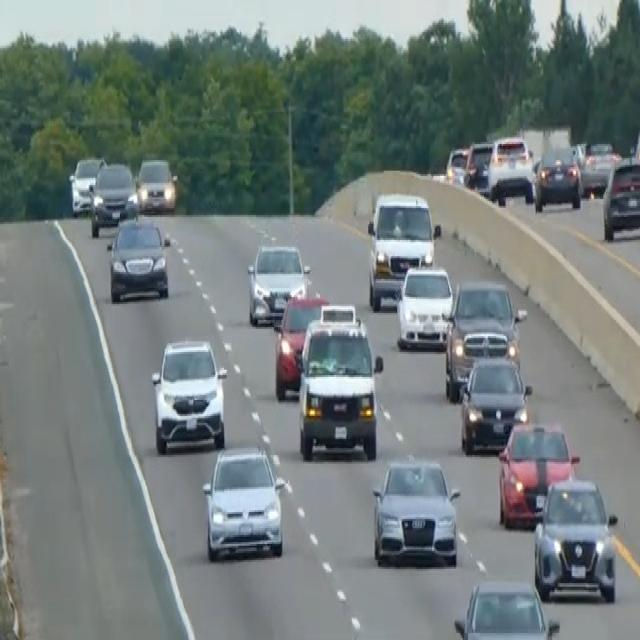car: (532, 474, 618, 602), (371, 453, 460, 567), (444, 277, 526, 400), (201, 442, 285, 562), (150, 336, 227, 453), (497, 418, 578, 528), (459, 354, 531, 453), (453, 578, 560, 638), (272, 292, 329, 400), (106, 214, 171, 302), (246, 238, 310, 326), (395, 262, 454, 351), (89, 160, 137, 236), (487, 133, 534, 204), (533, 144, 581, 212), (602, 156, 639, 242), (135, 154, 177, 212), (579, 138, 621, 196), (68, 155, 105, 215), (463, 138, 493, 194), (444, 144, 469, 187), (633, 119, 639, 171)
minivan: (296, 310, 383, 462), (365, 189, 441, 311)
